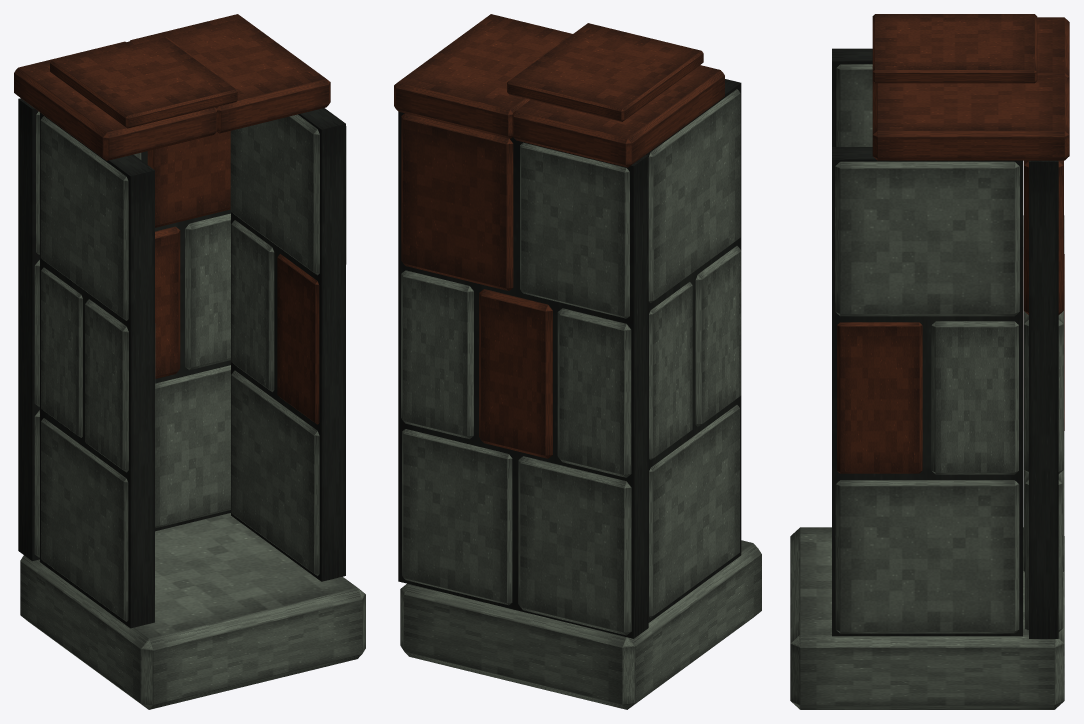
The model's file is THStage_FindSupport_15.fbx.
The picture shows the model from 3 angles, left to right: view 1: azimuth 30°, elevation 25°; view 2: azimuth 150°, elevation 25°; view 3: azimuth 270°, elevation 25°; orthographic projection. The views are drawn at different scales.
Visible parts, largest first — view 1: THStage_FindSupport_15; view 2: THStage_FindSupport_15; view 3: THStage_FindSupport_15.
Part boxes in pixels (x1=…): THStage_FindSupport_15: x1=14, y1=14, x2=365, y2=709; THStage_FindSupport_15: x1=394, y1=14, x2=761, y2=709; THStage_FindSupport_15: x1=790, y1=14, x2=1069, y2=709.
Bounding box in the file's own units: 0.334 × 0.7911 × 0.336.
Materials: 1 (1 with a texture image).
